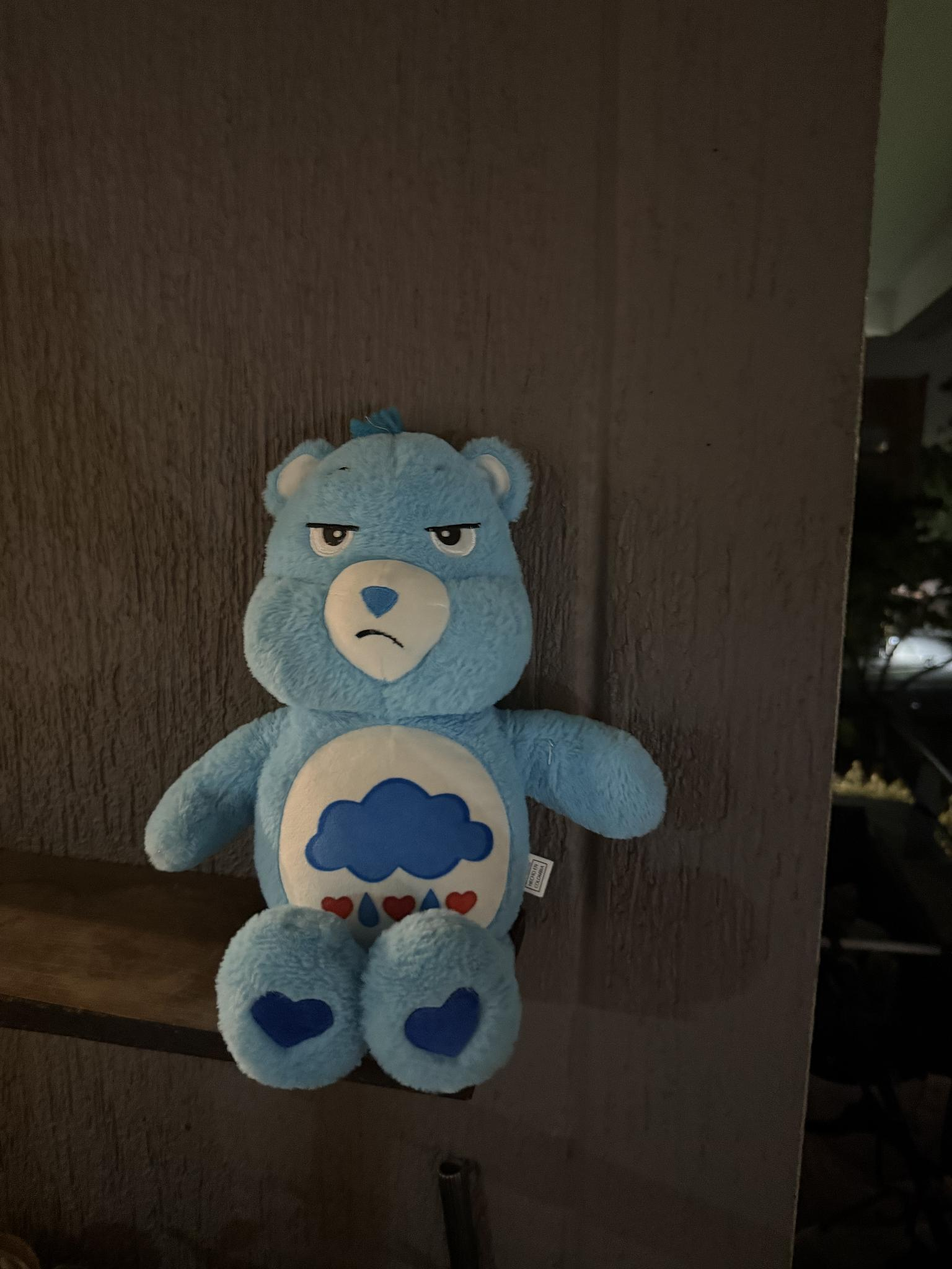peluche_Juan Jose: (131, 404, 678, 1106)
